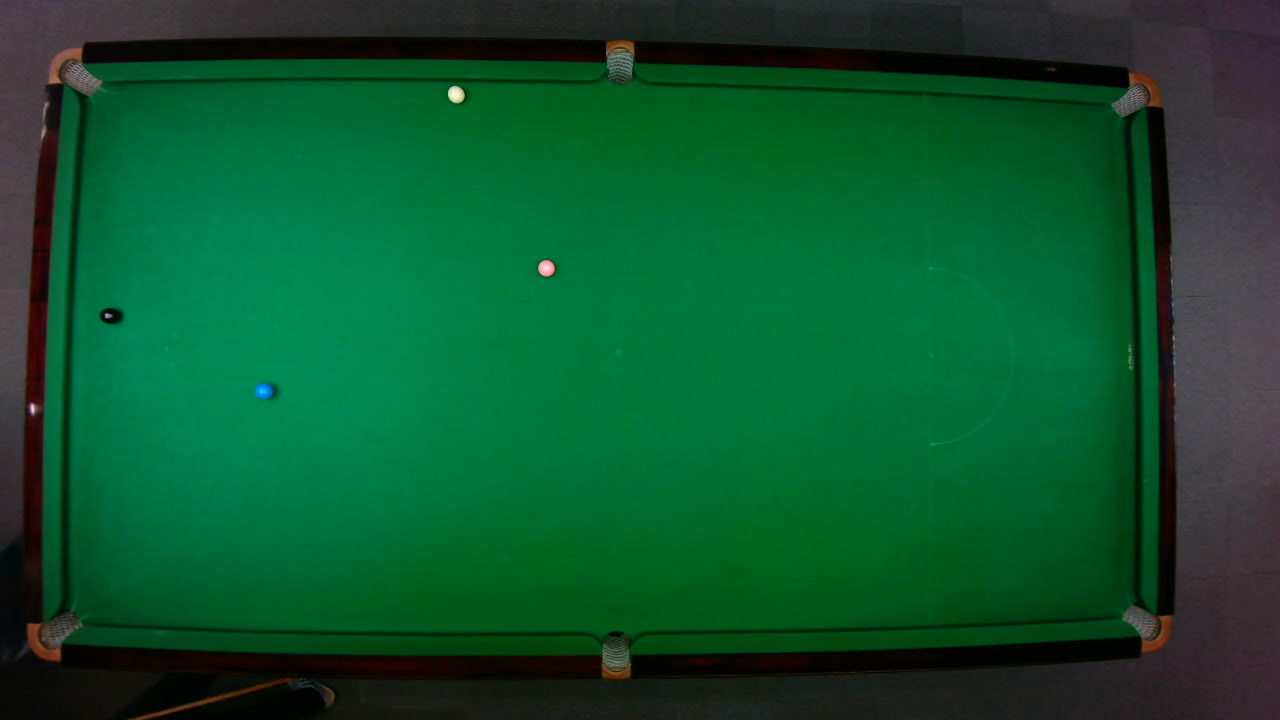bag: (26, 608, 83, 661), (45, 46, 102, 96), (1119, 603, 1172, 652), (1108, 71, 1161, 117), (600, 629, 629, 680), (605, 38, 633, 85)
black: (98, 306, 120, 324)
blue: (253, 381, 274, 400)
pink: (536, 258, 555, 277)
white: (446, 84, 465, 103)
zone: (927, 265, 1013, 445)
